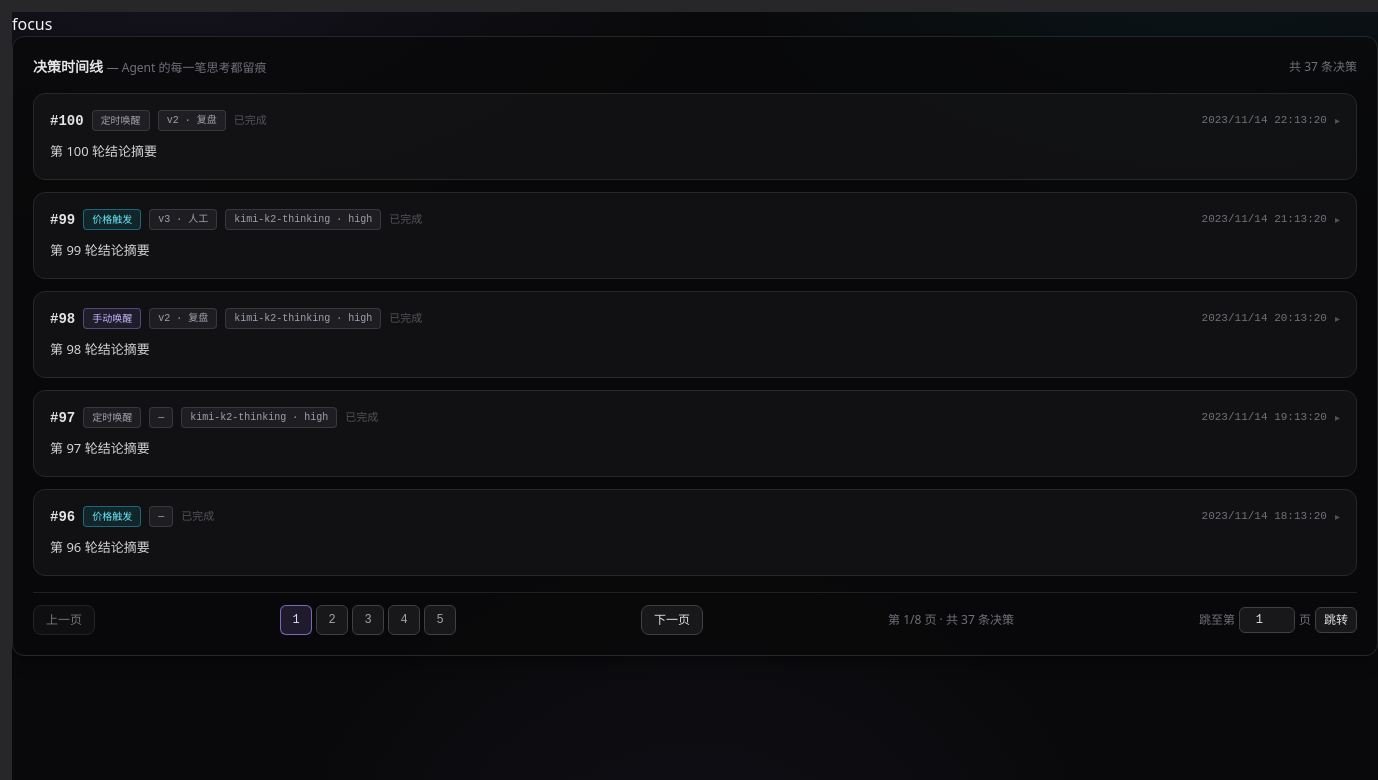
RoundTimeline(决策时间线) › 跳转到第 6 页后页码窗口随当前页滑动，非法页码不请求接口
This screenshot has width=1378, height=780.
Expected: the text "第 100 轮结论摘要" is shown, [50,142,157,160]
Replace the text in the number field named "跳转到第几页决策" with "6" at [1267, 620], box [1239,607,1295,633]
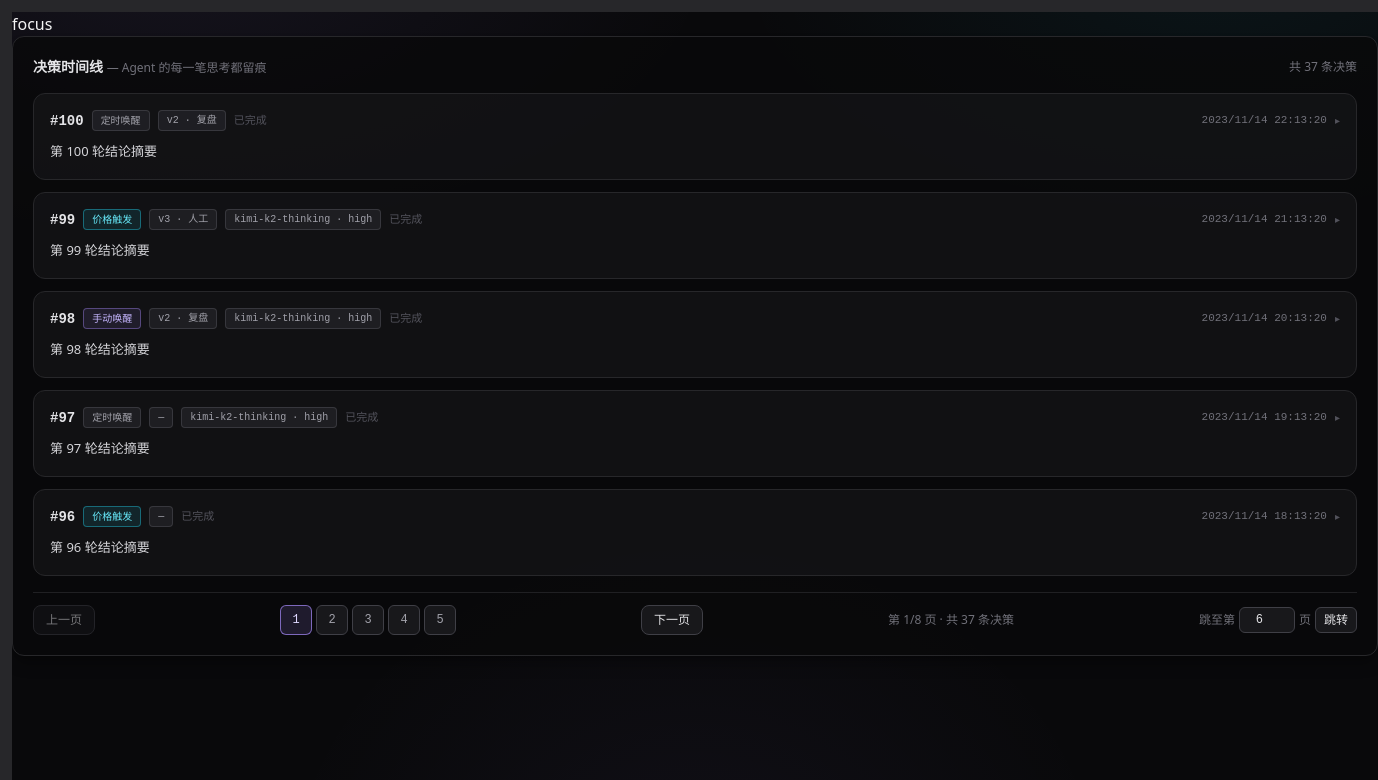
Click the button "跳转" at [1336, 620], box [1315,607,1357,633]
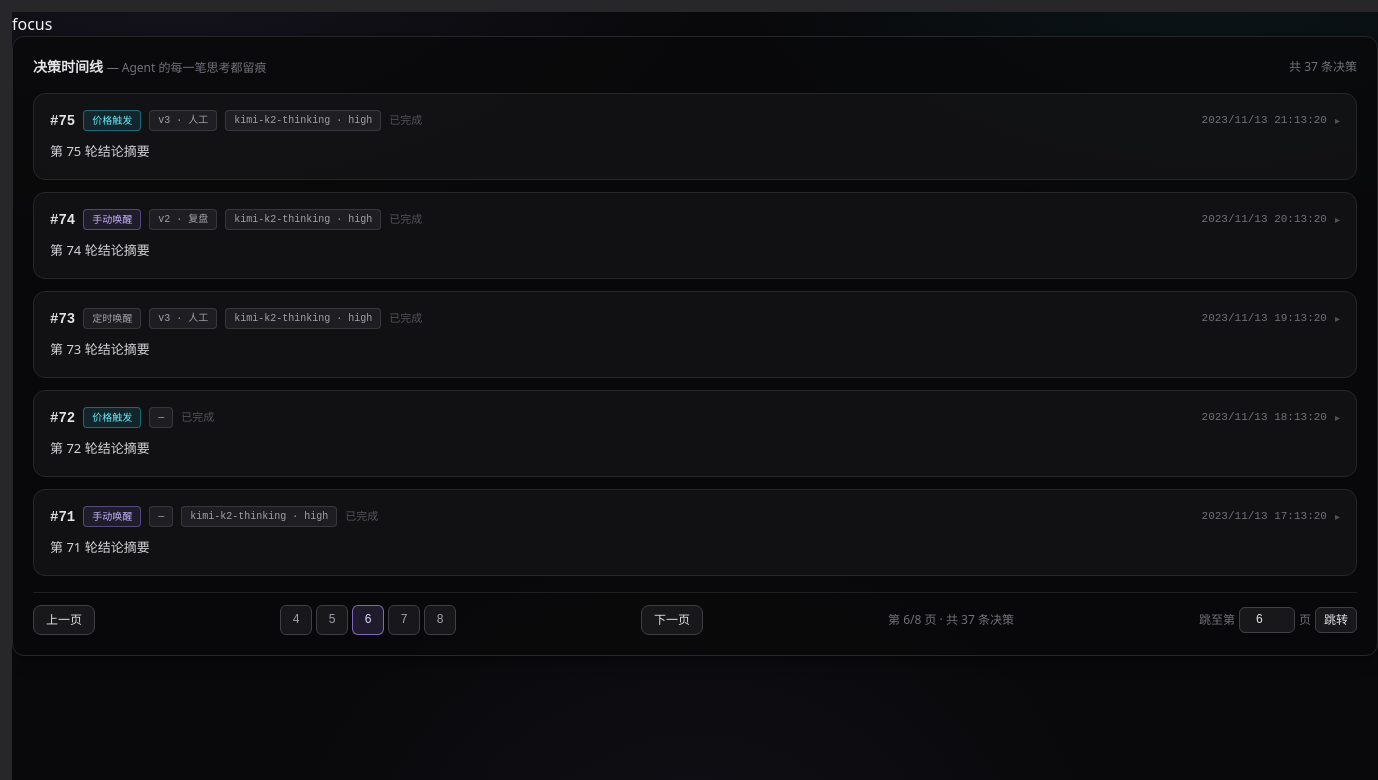
Expected: the number of buttons "4" is 5, [280,605,312,635]; [316,605,348,635]; [352,605,384,635]; [388,605,420,635]; [424,605,456,635]
Expected: the text "第 75 轮结论摘要" is shown, [50,142,150,160]
Replace the text in the number field named "跳转到第几页决策" with "9" at [1267, 620], box [1239,607,1295,633]
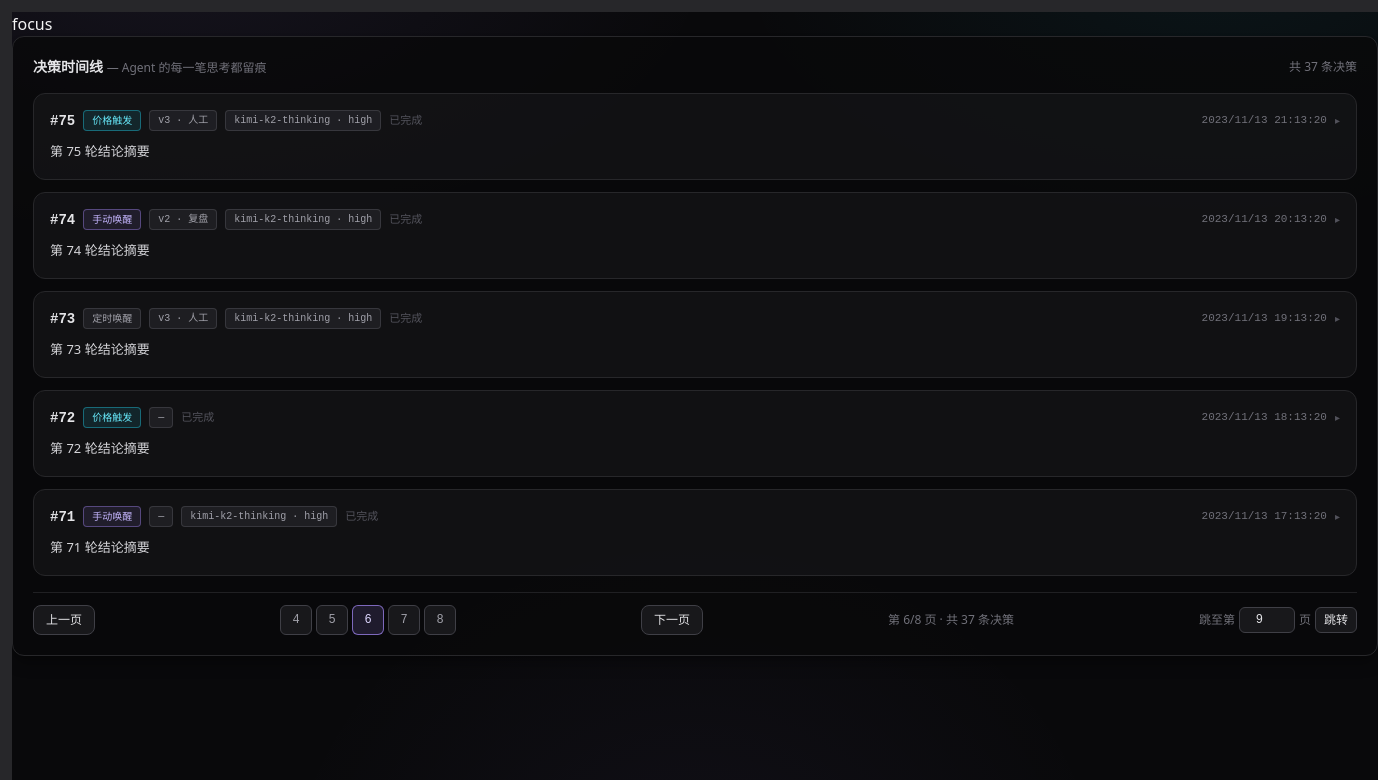
Click the button "跳转" at [1336, 620], box [1315,607,1357,633]
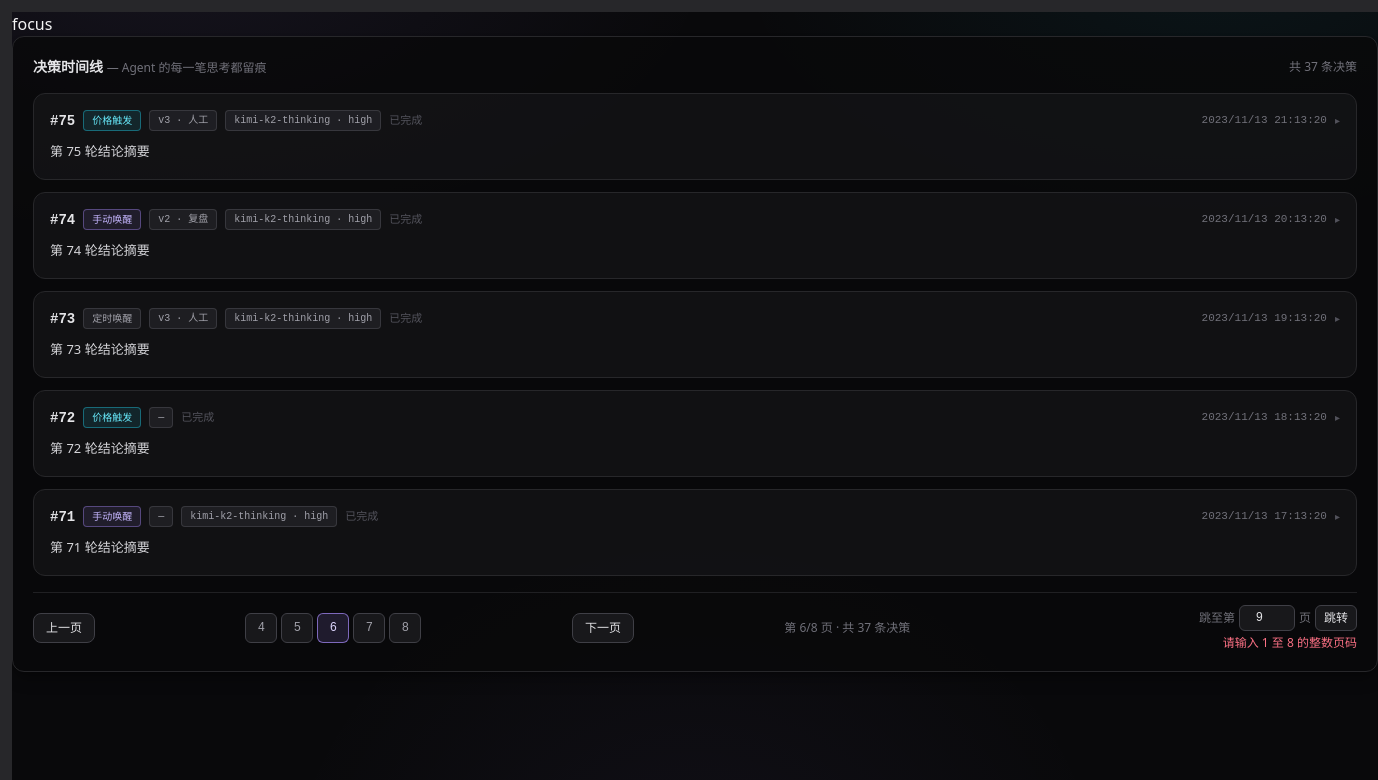
Expected: the message reads "请输入 1 至 8 的整数页码", [1223,634,1357,651]
